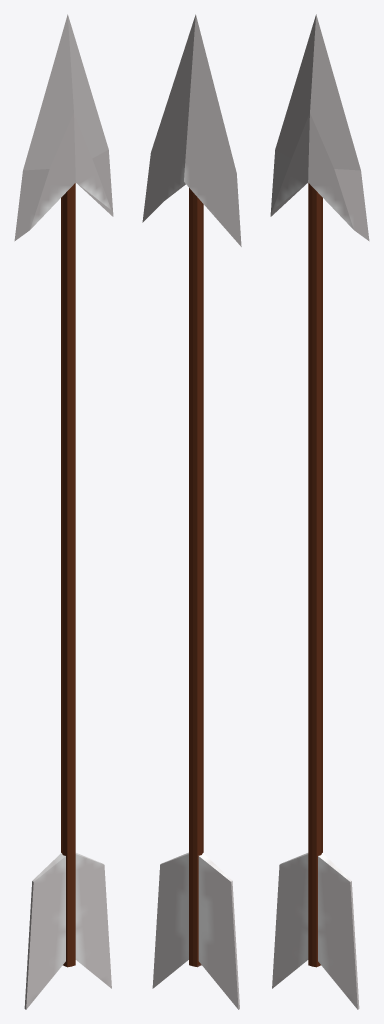
The model's file is Arrow.fbx.
The picture shows the model from 3 angles, left to right: view 1: azimuth 30°, elevation 25°; view 2: azimuth 150°, elevation 25°; view 3: azimuth 330°, elevation 25°; orthographic projection.
Parts seen in each view (by area): view 1: Arrow; view 2: Arrow; view 3: Arrow.
Boxes of the visible parts, x1,y1,x2,y2 form: Arrow: (14, 14, 113, 1009); Arrow: (142, 14, 241, 1009); Arrow: (270, 14, 369, 1009).
Size of the model in its own units: 85.71 by 814 by 30.01.
